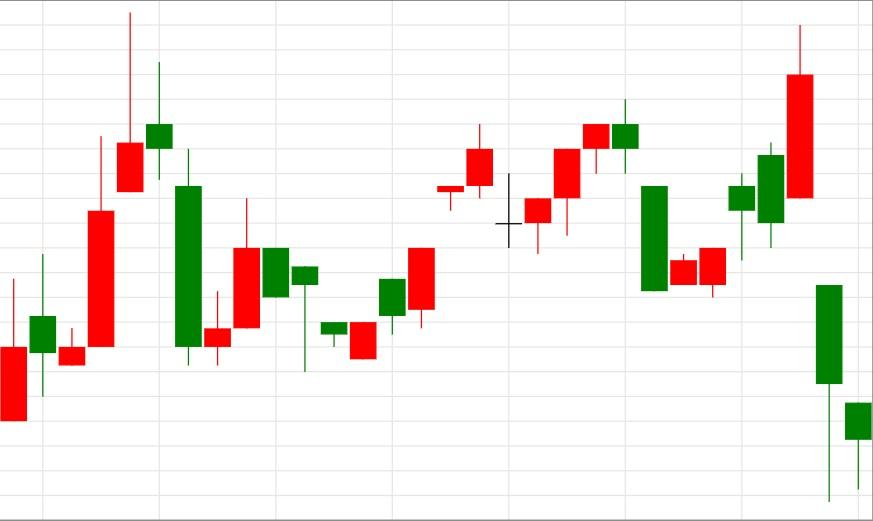bearish_engulfing_fall: (524, 99, 640, 253)
bullish_engulfing_rise: (262, 247, 378, 372)
three_white_soldiers_rise: (465, 124, 611, 254)
